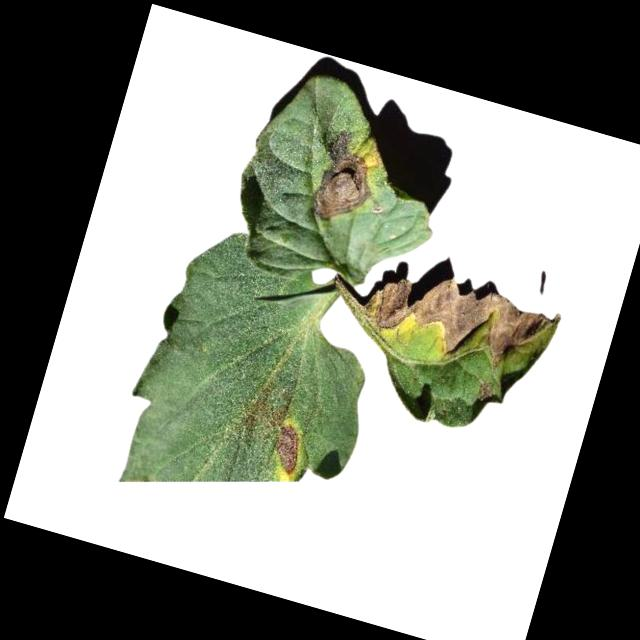Early_blight: (357, 259, 557, 386), (298, 124, 388, 232), (266, 421, 309, 479), (474, 382, 497, 405)
